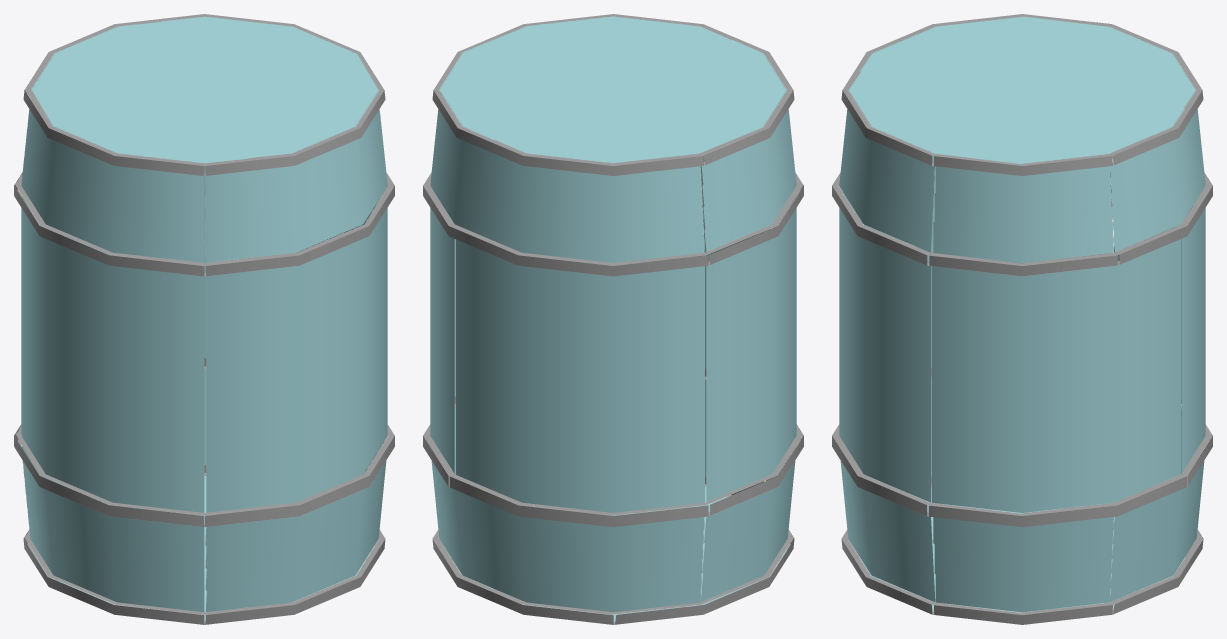
Rendered from M_Oil Barrel.FBX.
3 renders of one model, left to right at view 1: azimuth 30°, elevation 25°; view 2: azimuth 150°, elevation 25°; view 3: azimuth 270°, elevation 25°, orthographic.
Parts seen in each view (by area): view 1: Cylinder001; view 2: Cylinder001; view 3: Cylinder001.
Part boxes in pixels (<box>): Cylinder001: <box>14,14,394,624</box>; Cylinder001: <box>423,14,803,624</box>; Cylinder001: <box>832,14,1212,624</box>.
Bounding box in the file's own units: 39.79 × 52.89 × 39.79.
1 material, 1 textured.
